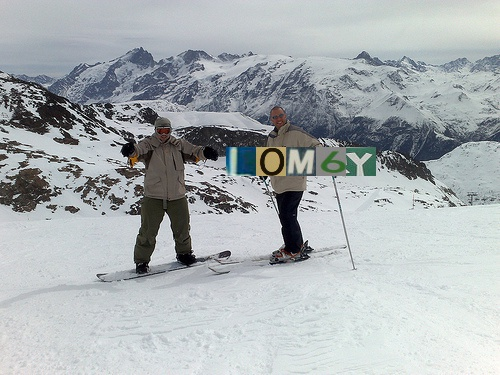6: (316, 147, 346, 177)
L: (226, 147, 256, 177)
M: (286, 147, 316, 177)
O: (256, 147, 286, 177)
Y: (346, 147, 376, 177)
word: (226, 147, 376, 177)
